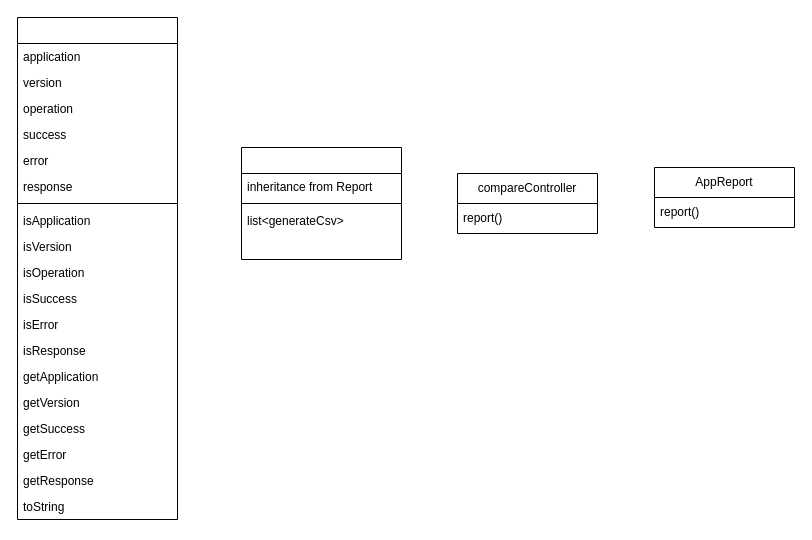
Some shapes in this 812 by 540 pixel diagram are drawn without their labels. The box of each missing label's shape, as (x1, y1, x2, y2) in pixels:
GenerateCsv: (240, 146, 402, 260)
Report: (16, 16, 178, 520)
